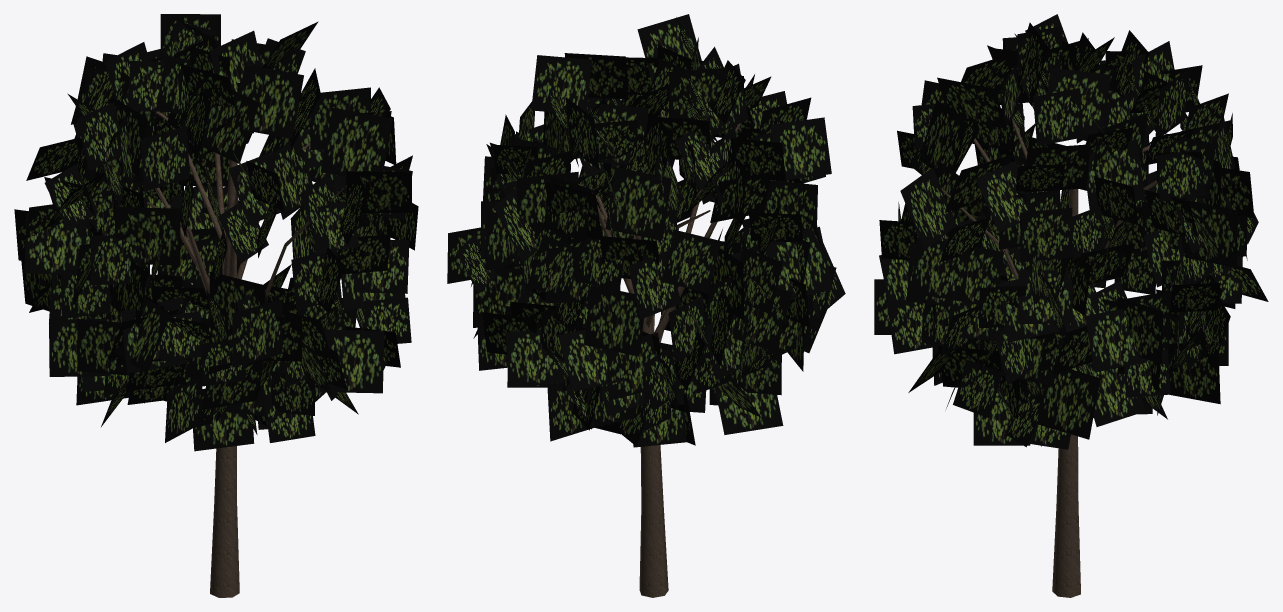
The model's file is tpl_dike_elms_dike_ash_hi.glb.
3 renders of one model, left to right at view 1: azimuth 30°, elevation 25°; view 2: azimuth 150°, elevation 25°; view 3: azimuth 270°, elevation 25°, orthographic. The views are drawn at different scales.
Visible parts, largest first — view 1: tpl_dike_elms_dike_ash_hi; view 2: tpl_dike_elms_dike_ash_hi; view 3: tpl_dike_elms_dike_ash_hi.
Boxes of the visible parts, x1,y1,x2,y2 form: tpl_dike_elms_dike_ash_hi: [14, 14, 418, 597]; tpl_dike_elms_dike_ash_hi: [447, 14, 845, 597]; tpl_dike_elms_dike_ash_hi: [874, 14, 1268, 597].
Size of the model in its own units: 11.75 by 18 by 11.63.
2 materials, 2 textured.
